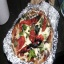pizza: (10, 12, 54, 62)
